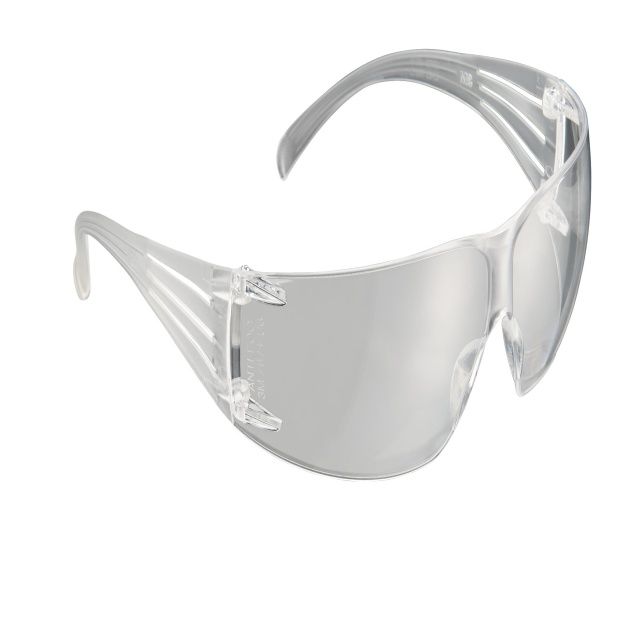Safety_Goggles: (60, 44, 599, 471)
